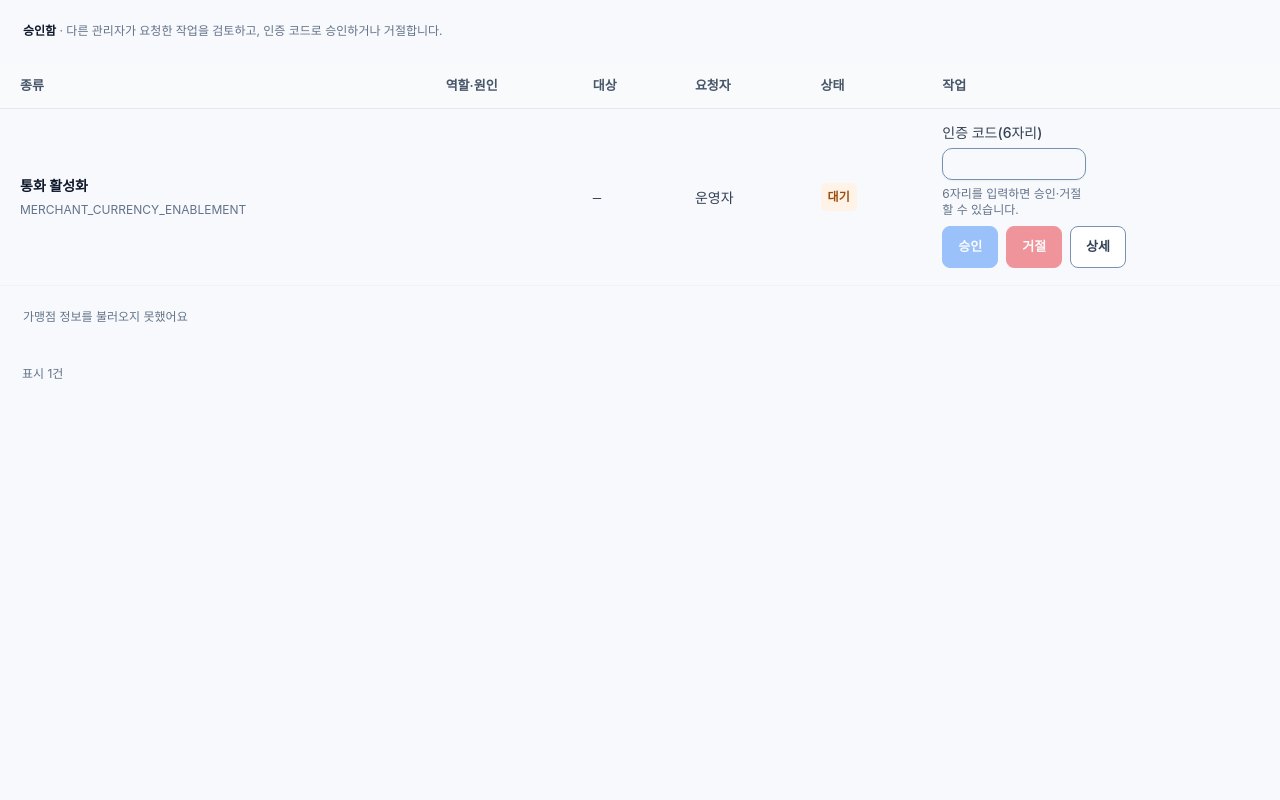
Scenario: ApprovalsScreen — B3-2 currency enablement (MERCHANT-OPS-002 §8.4 B3-2-6) › DATE: the detail says "효력 시작: 2026-11-14 00:00 KST부터" and the exclusive end date
Click the button "상세".
click(1098, 247)  # box x1=1070 y1=226 x2=1126 y2=268
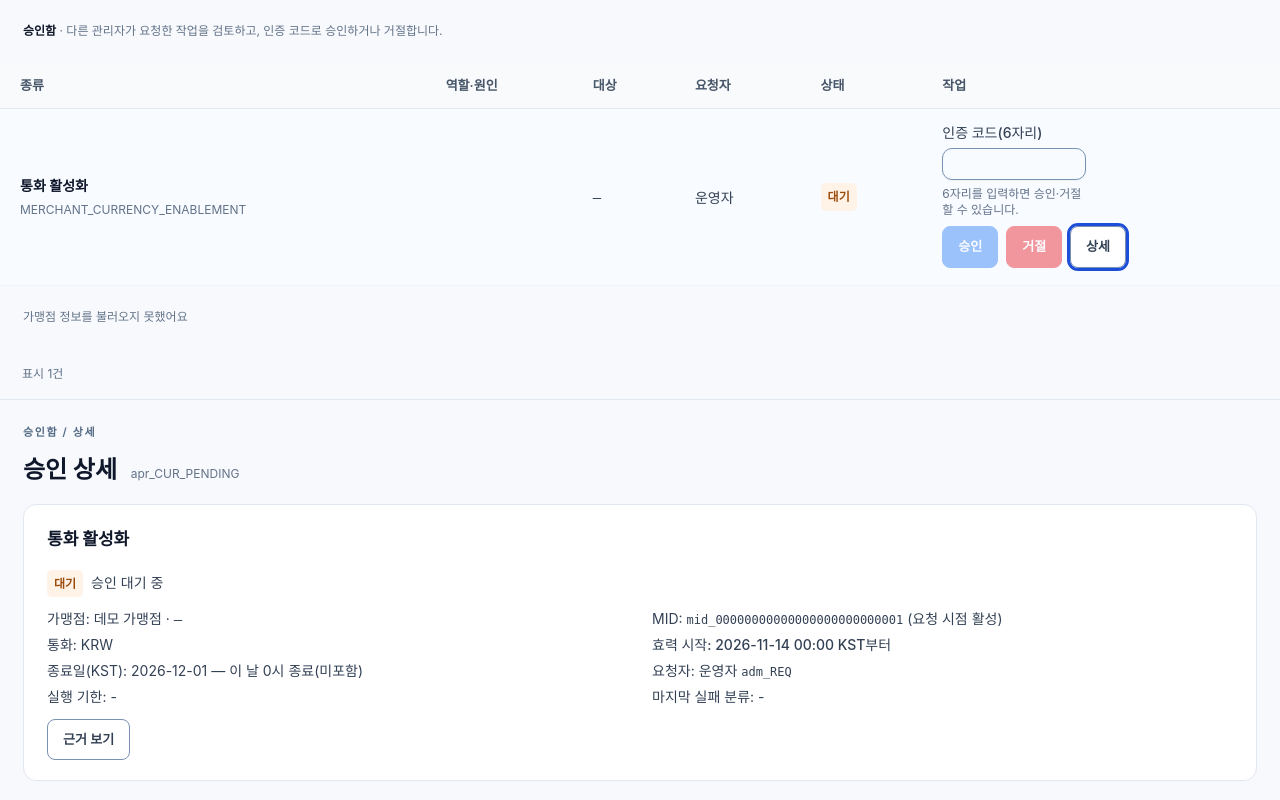
Expected: the element named "통화 활성화 승인 상세" does not show "승인 실행 즉시", x1=23 y1=504 x2=1257 y2=781
Expected: the element named "통화 활성화 승인 상세" shows "효력 시작: 2026-11-14 00:00 KST부터", x1=652 y1=636 x2=891 y2=653
Expected: the element named "통화 활성화 승인 상세" shows "종료일(KST): 2026-12-01 — 이 날 0시 종료(미포함)", x1=47 y1=662 x2=363 y2=679
